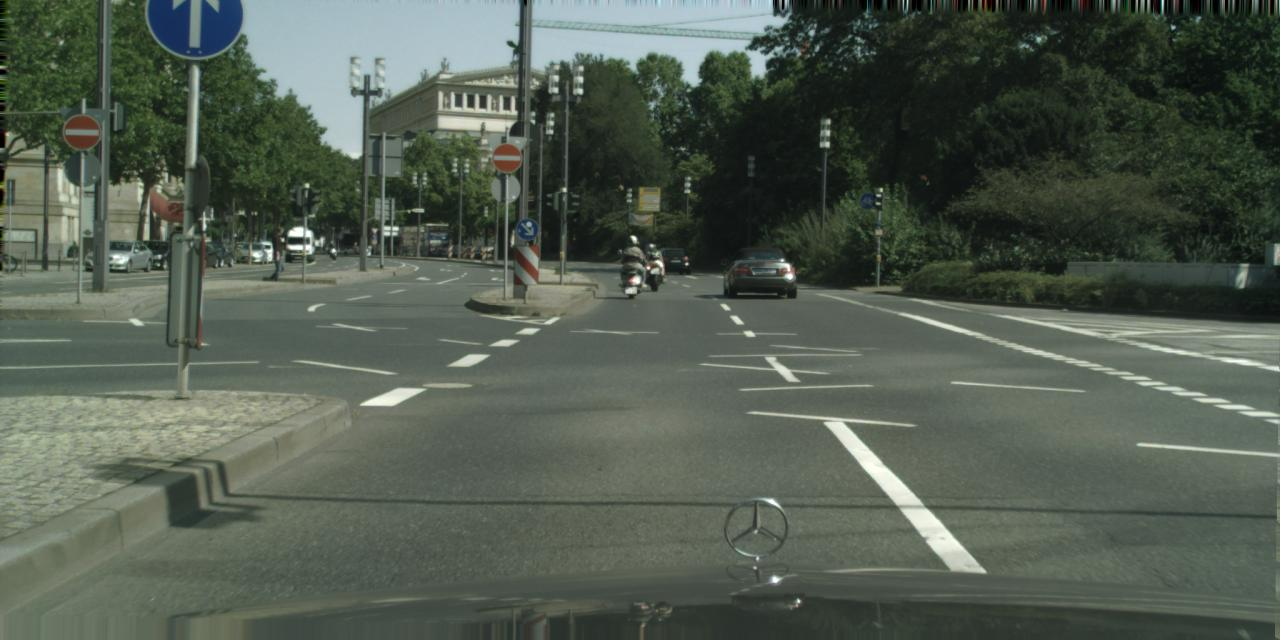ped: (621, 234, 643, 288), (266, 228, 288, 280), (644, 242, 660, 282), (353, 241, 358, 256)
